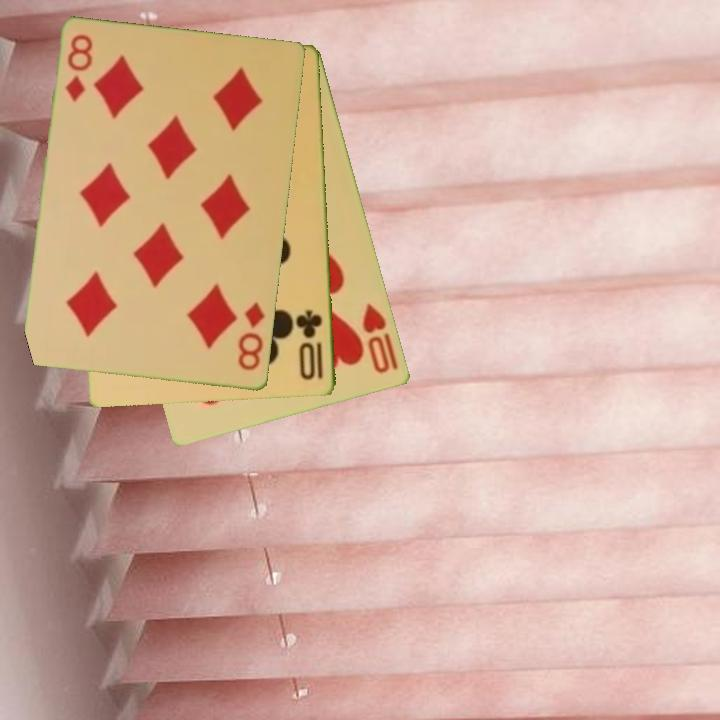10c: (294, 306, 326, 384)
10h: (359, 300, 393, 377)
8d: (234, 299, 269, 374), (62, 31, 96, 105)
